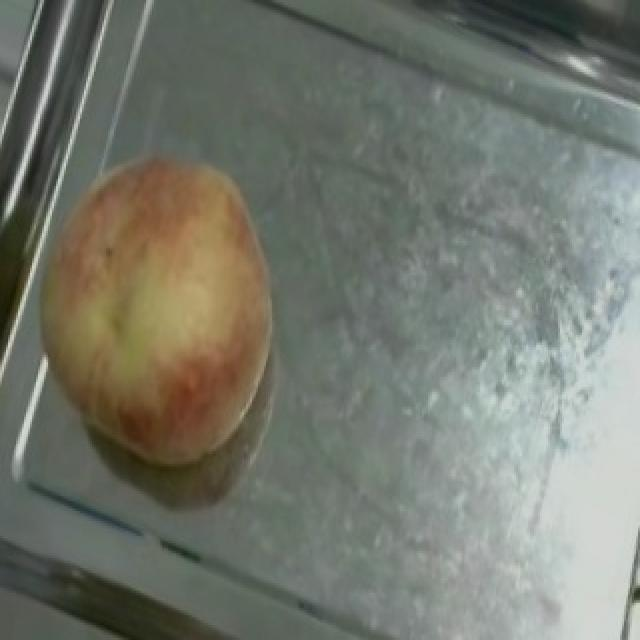Fruit: (0, 114, 326, 506)
